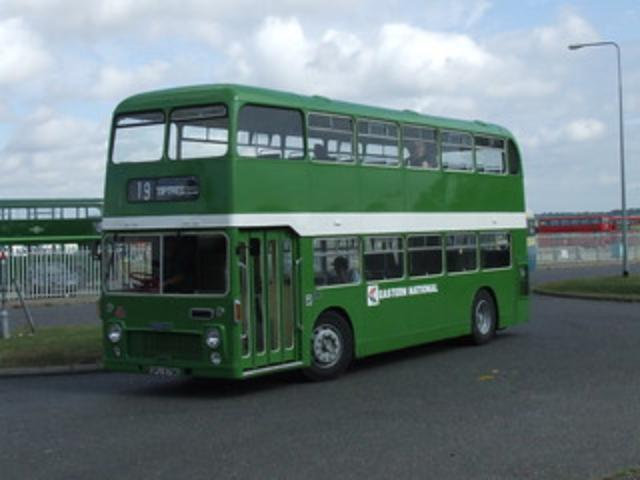bus: (98, 84, 530, 384)
